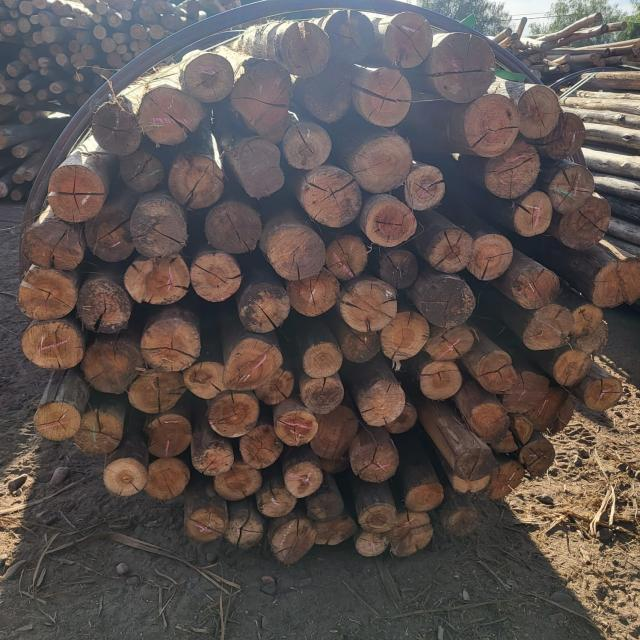package: (23, 7, 619, 559)
